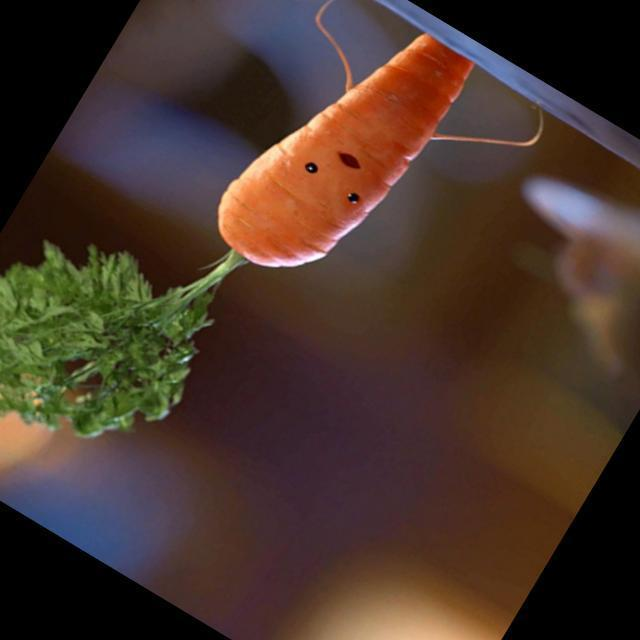Carrot: (0, 35, 472, 436)
